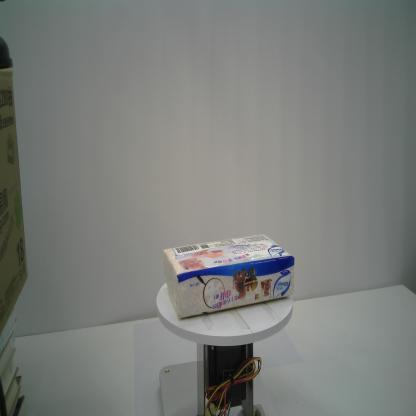Tissue: (162, 232, 296, 320)
